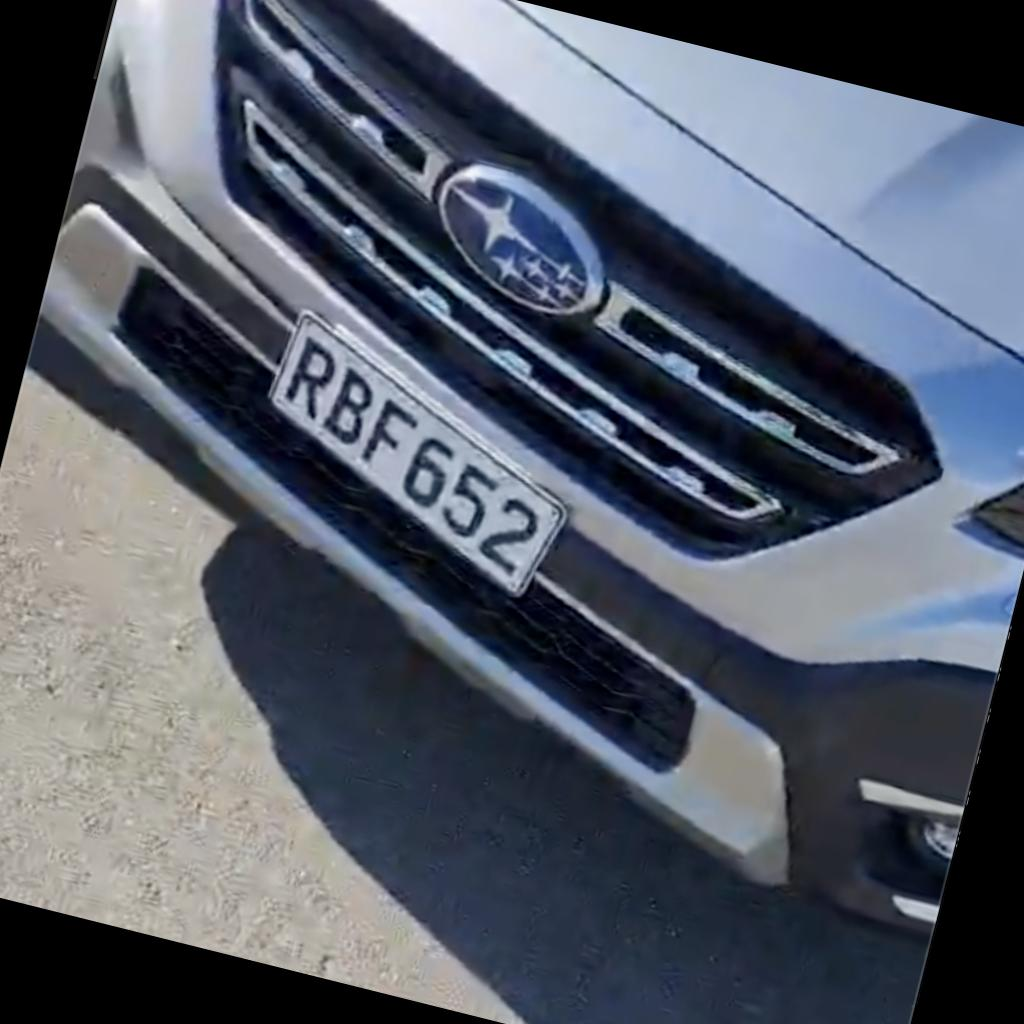Number-Plates: (239, 298, 591, 617)
